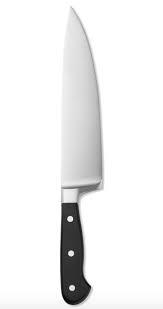Knife: (59, 5, 103, 305)
